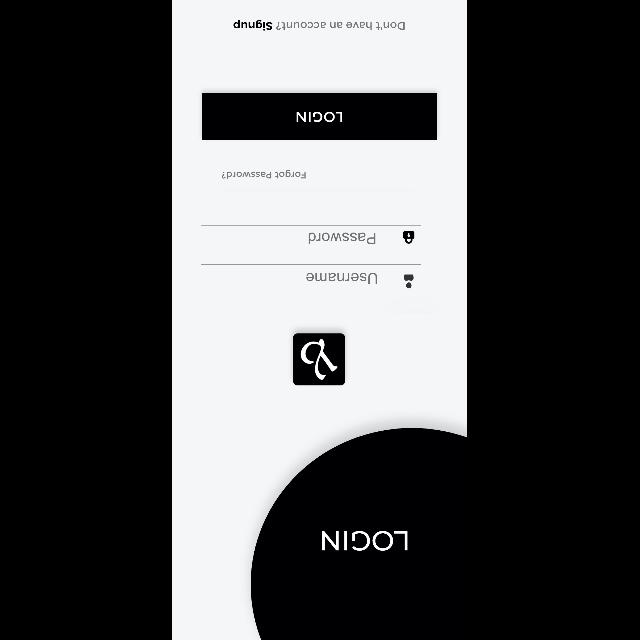icon: (404, 230, 416, 243), (405, 274, 415, 288)
image: (294, 333, 346, 385)
input: (202, 264, 422, 288), (202, 226, 422, 244)
text: (234, 20, 406, 30), (322, 532, 408, 550), (307, 272, 378, 284), (309, 232, 376, 244), (222, 170, 306, 178)
textbutton: (202, 94, 438, 140)
